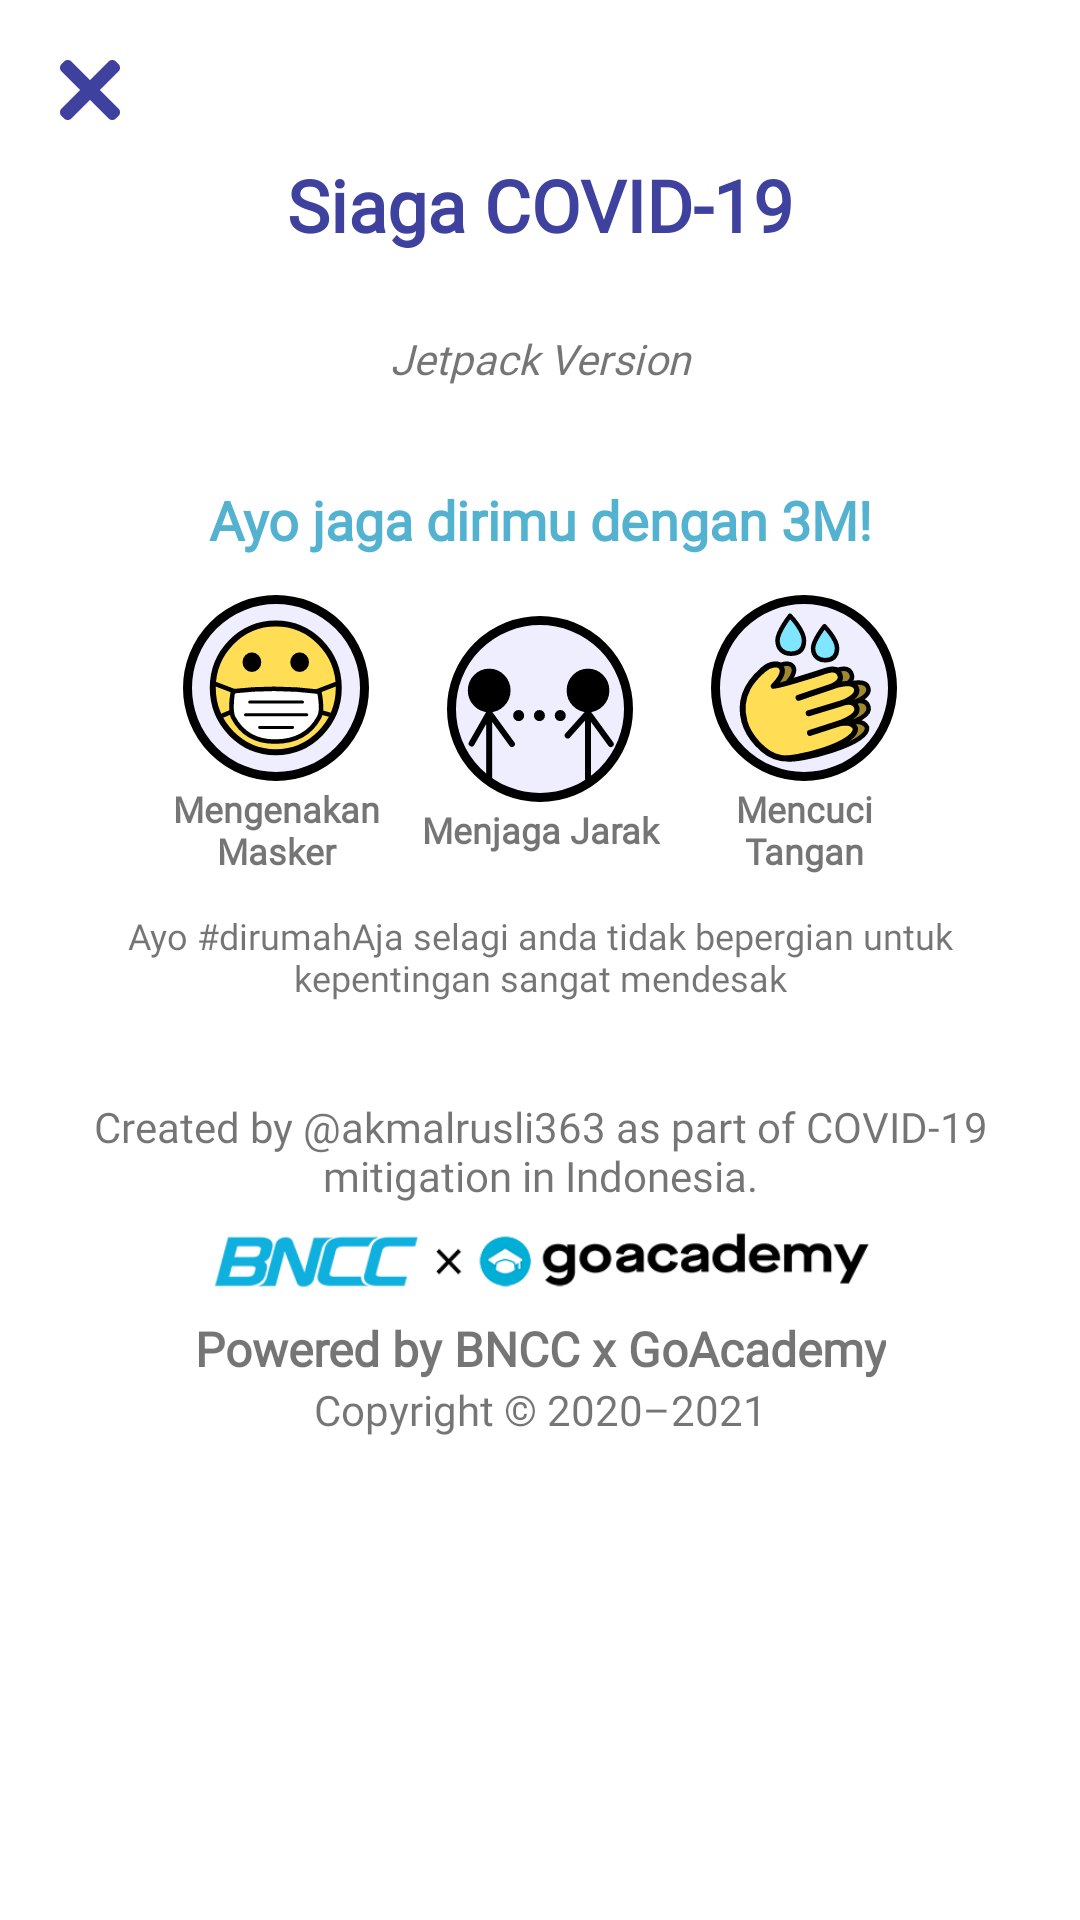

Icon click points for this 1080x1920 phone screenshot, format point (x, y):
Close hotline dialog: point (90, 90)
